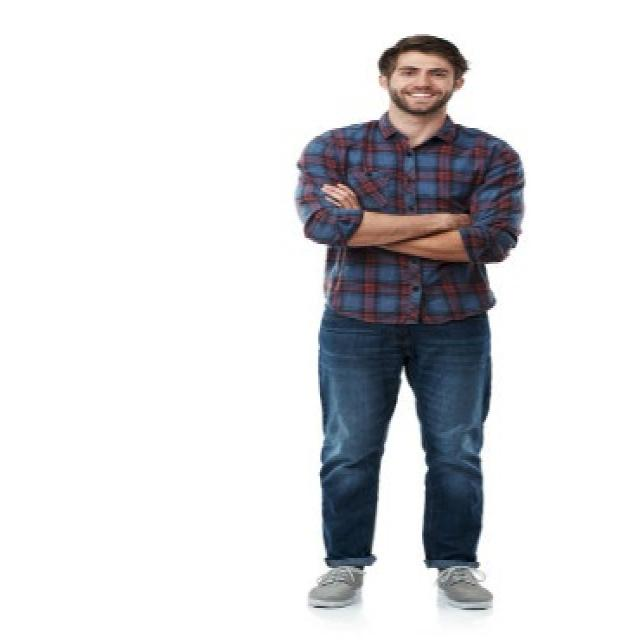adult: (277, 33, 530, 619)
